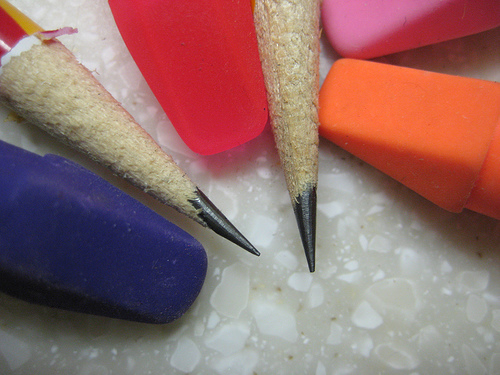pen_tip: (2, 29, 266, 266)
